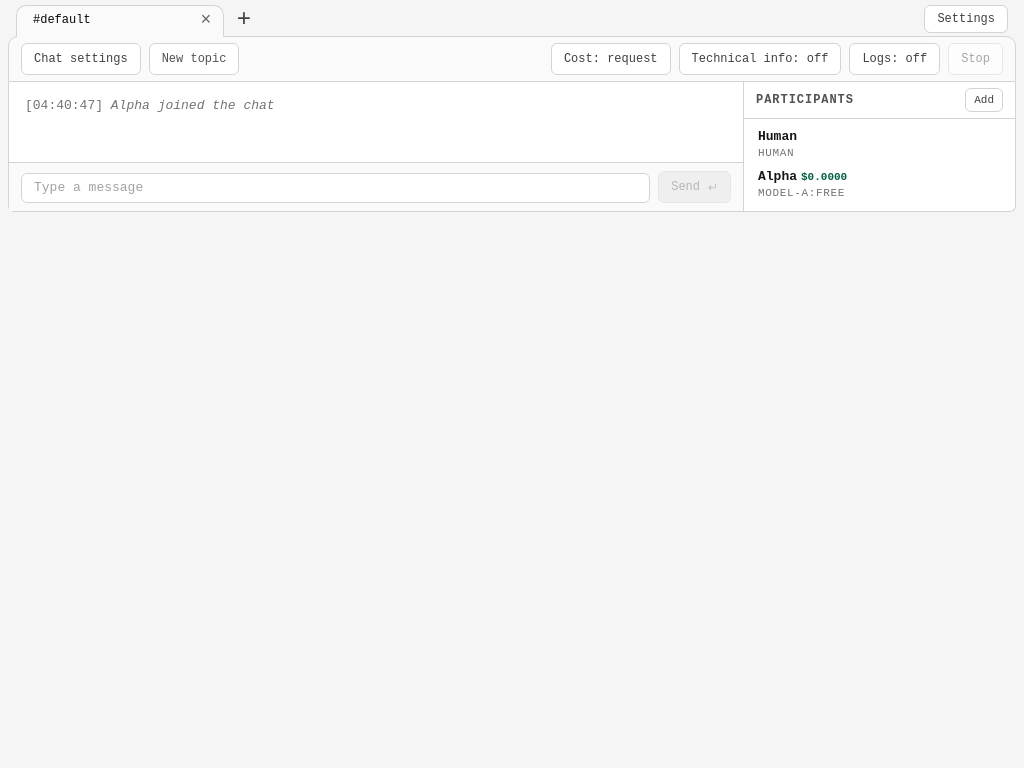
MultiAgentChat layout and workflow › invalidates the persisted models cache from settings
This screenshot has width=1024, height=768.
Click the button with class "settings-button".
click(966, 19)  # box [924,5,1008,33]
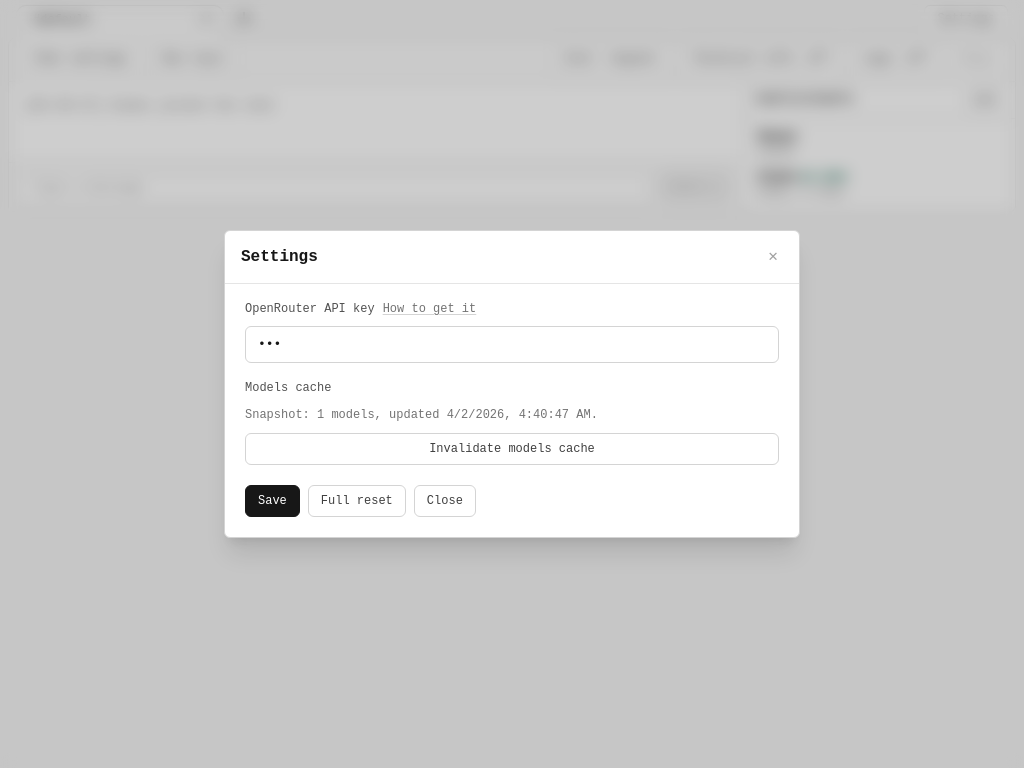
Result: the text "Snapshot: 1 models" is shown at [245,408,598,422]
Result: the button "Invalidate models cache" is shown
Click the button "Invalidate models cache".
click(512, 449)  # box [245,433,779,465]
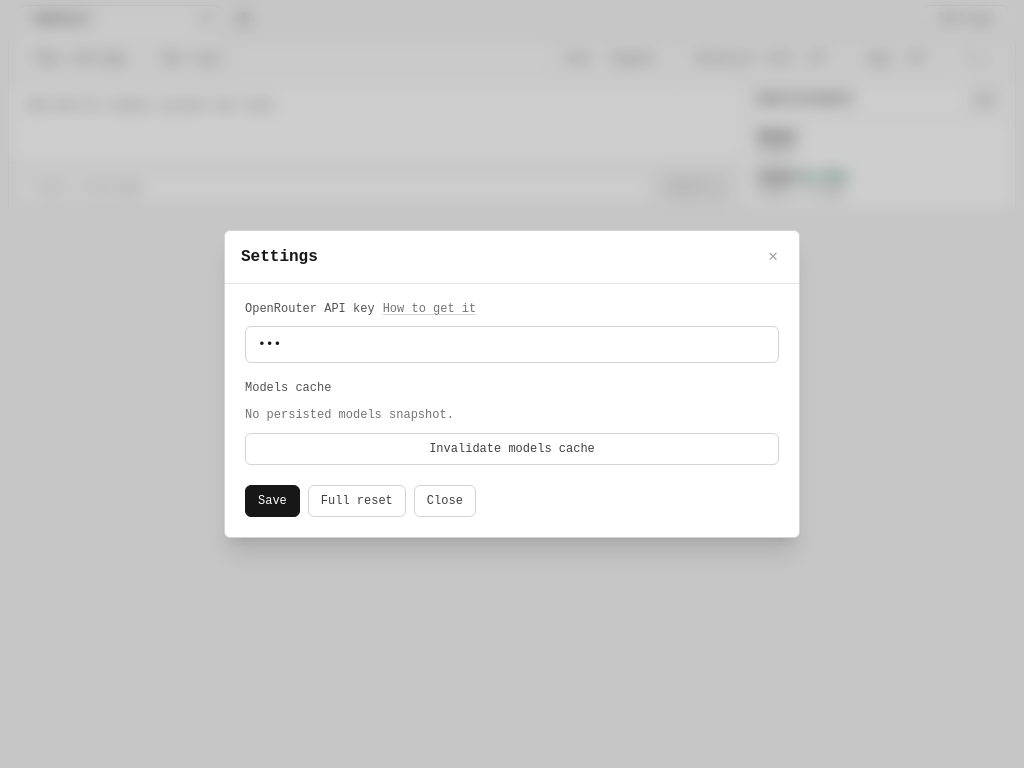
Result: the text "No persisted models snapshot." is shown at [245,408,454,422]
